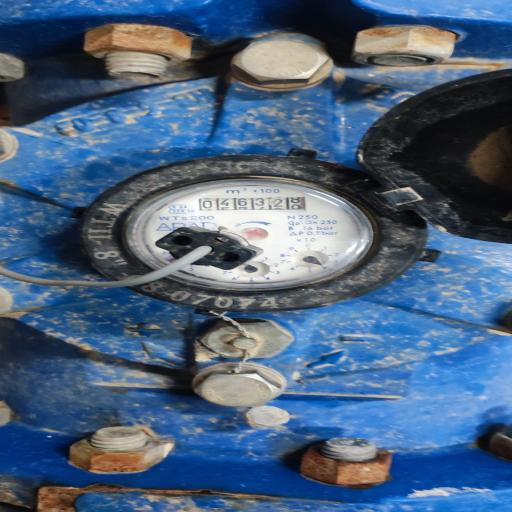0: (199, 199, 215, 210)
2: (272, 198, 288, 208)
3: (253, 198, 269, 207)
4: (218, 199, 236, 207)
6: (237, 198, 251, 206)
8: (289, 197, 303, 204)
medida: (198, 197, 307, 211)
